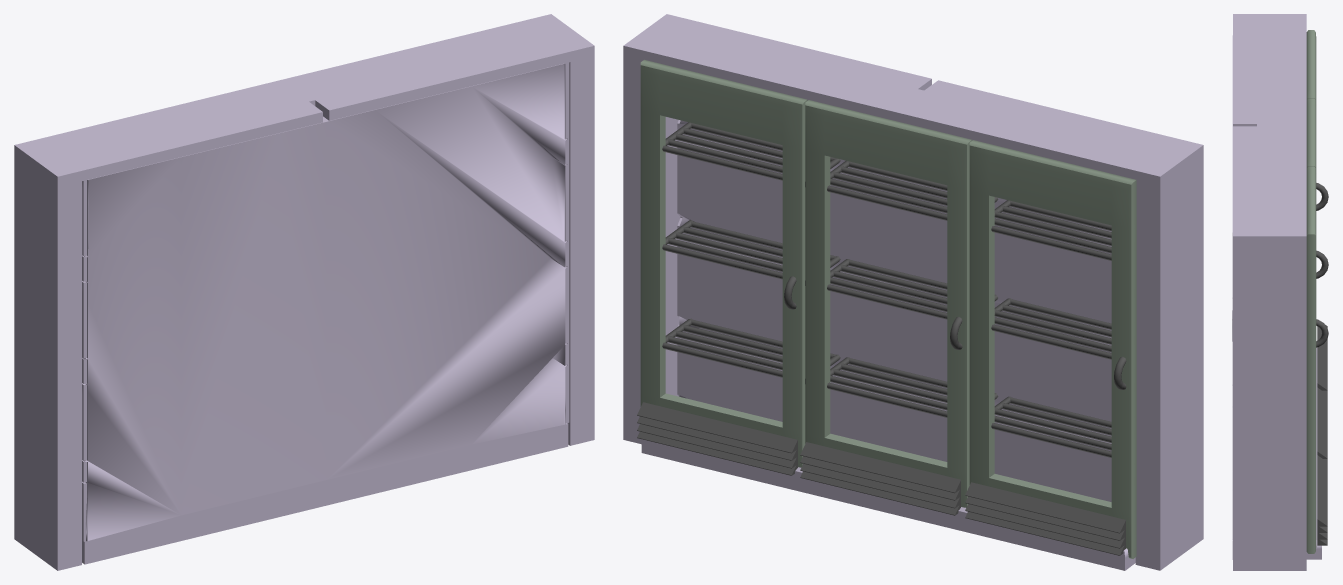
The model's file is freezer.glb.
3 renders of one model, left to right at view 1: azimuth 30°, elevation 25°; view 2: azimuth 150°, elevation 25°; view 3: azimuth 270°, elevation 25°, orthographic. The views are drawn at different scales.
Parts seen in each view (by area): view 1: Box002; view 2: Box002, Box009, Box006; view 3: Box002, Box009, Box006.
Part boxes in pixels (x1,y1,x2,y2): Box002: (14,14,594,570); Box002: (623,14,1203,570); Box009: (640,59,1136,558); Box006: (637,122,1126,555); Box002: (1232,14,1321,570); Box009: (1306,30,1316,553); Box006: (1316,183,1328,545).
Size of the model in its own units: 0.5578 by 0.3913 by 0.1023.
